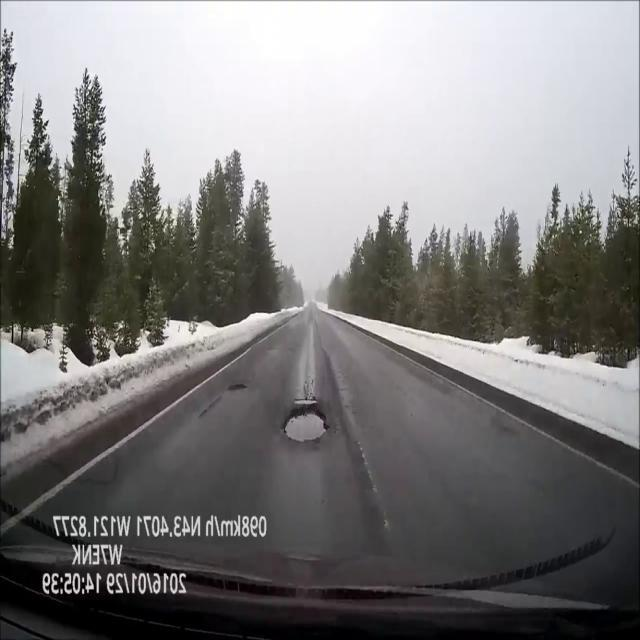pothole: (280, 410, 330, 442), (295, 397, 317, 407), (228, 383, 246, 393)
